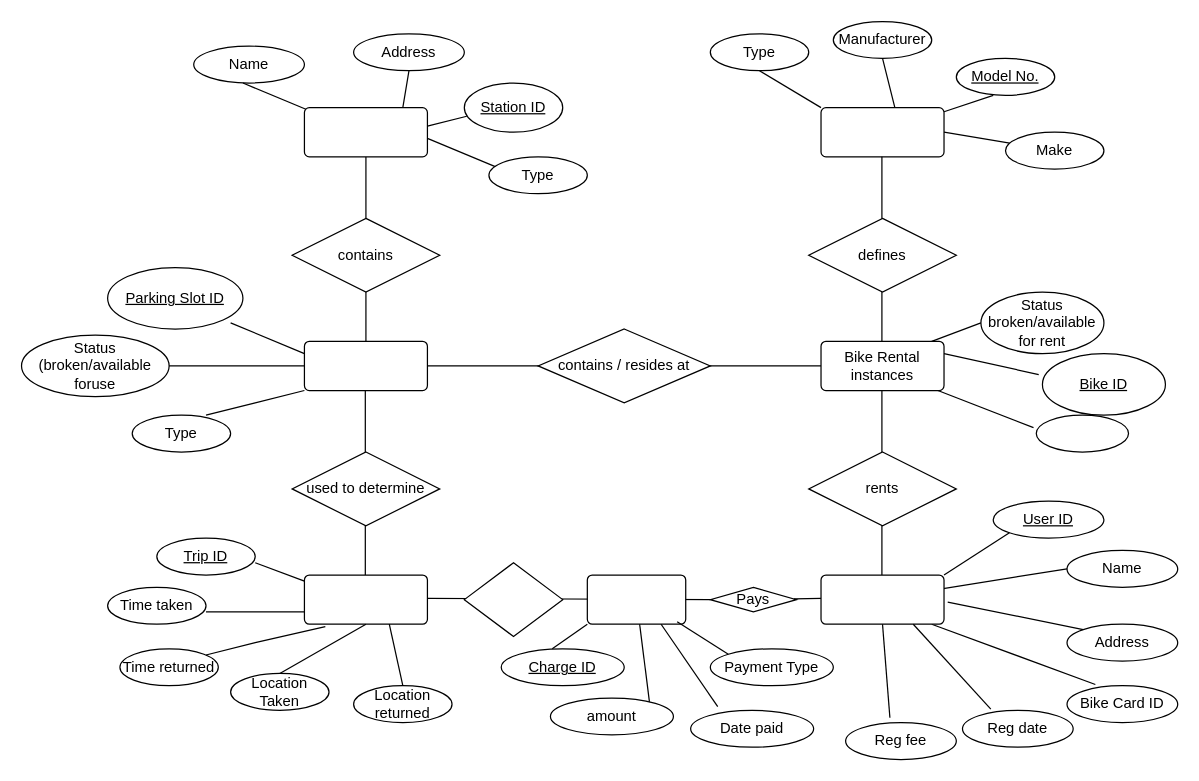
Image size: 1199x781. Some labels were removed from this diagram. The centre of each missing label's shape, as x and y in pixels:
Bike Definition: the point at 882,131
Charges: the point at 636,599
determine: the point at 513,599
Parking slots: the point at 365,365
Station: the point at 365,131
Trips: the point at 365,599
User: the point at 882,599
Wheel size: the point at 1082,433
